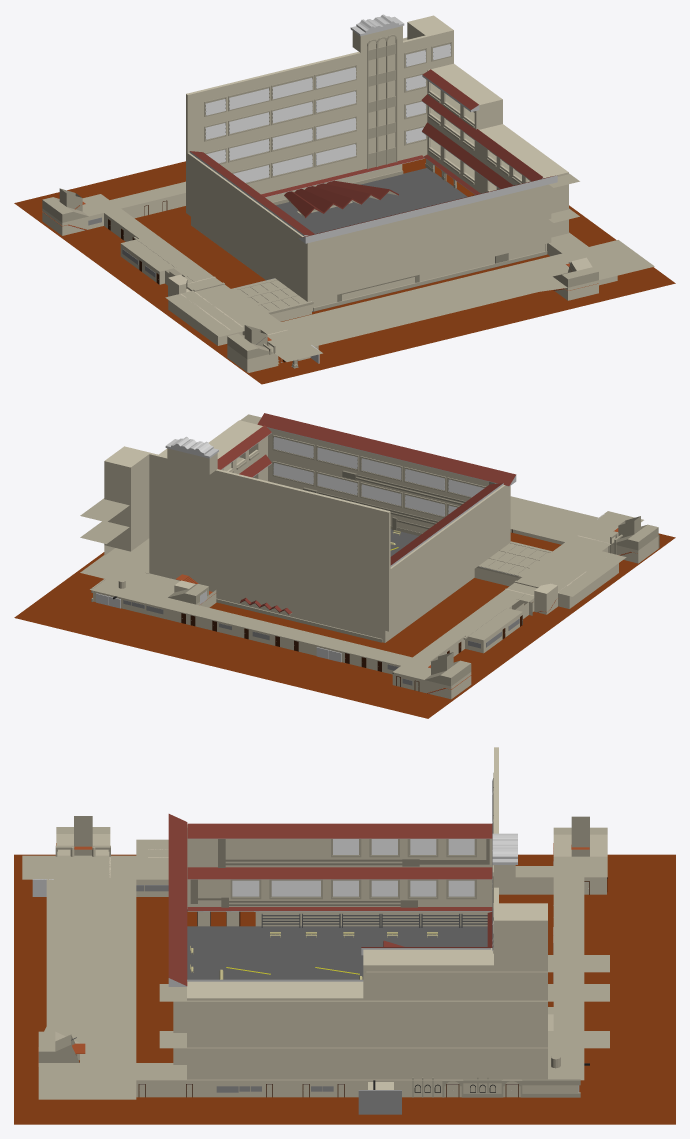
File: Ground-flr-new.fbx
3 renders of one model, top to bottom at view 1: azimuth 30°, elevation 25°; view 2: azimuth 150°, elevation 25°; view 3: azimuth 270°, elevation 25°, orthographic. The views are drawn at different scales.
Visible parts, largest first — view 1: Ground flr; view 2: Ground flr; view 3: Ground flr.
Boxes of the visible parts, x1,y1,x2,y2 form: Ground flr: (14,14,675,384); Ground flr: (14,413,675,718); Ground flr: (14,747,675,1124).
Bounding box in the file's own units: 16487 × 5991 × 17083.
